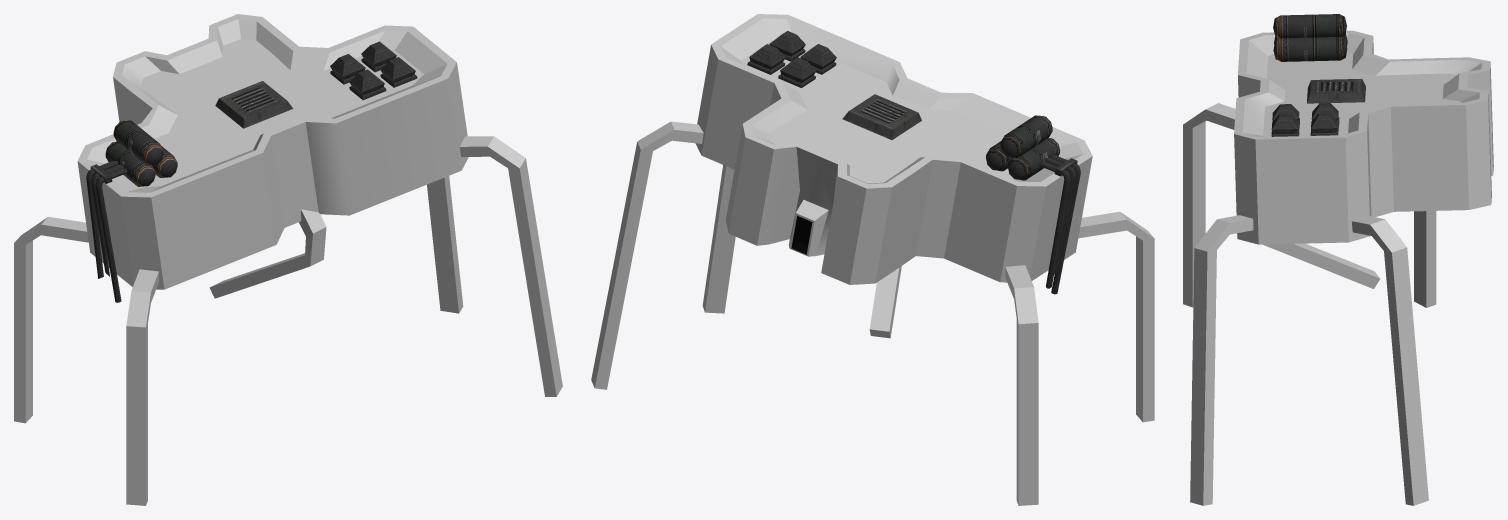
File: SalaTesouro_OUT.fbx
3 renders of one model, left to right at view 1: azimuth 30°, elevation 25°; view 2: azimuth 150°, elevation 25°; view 3: azimuth 270°, elevation 25°, orthographic.
Parts seen in each view (by area): view 1: pCube25; view 2: pCube25; view 3: pCube25.
Boxes of the visible parts, box(x1,y1,x2,y2) form: pCube25: box(14, 14, 562, 505); pCube25: box(591, 14, 1154, 505); pCube25: box(1183, 14, 1493, 505).
Bounding box in the file's own units: 23.56 × 17.02 × 14.15.
